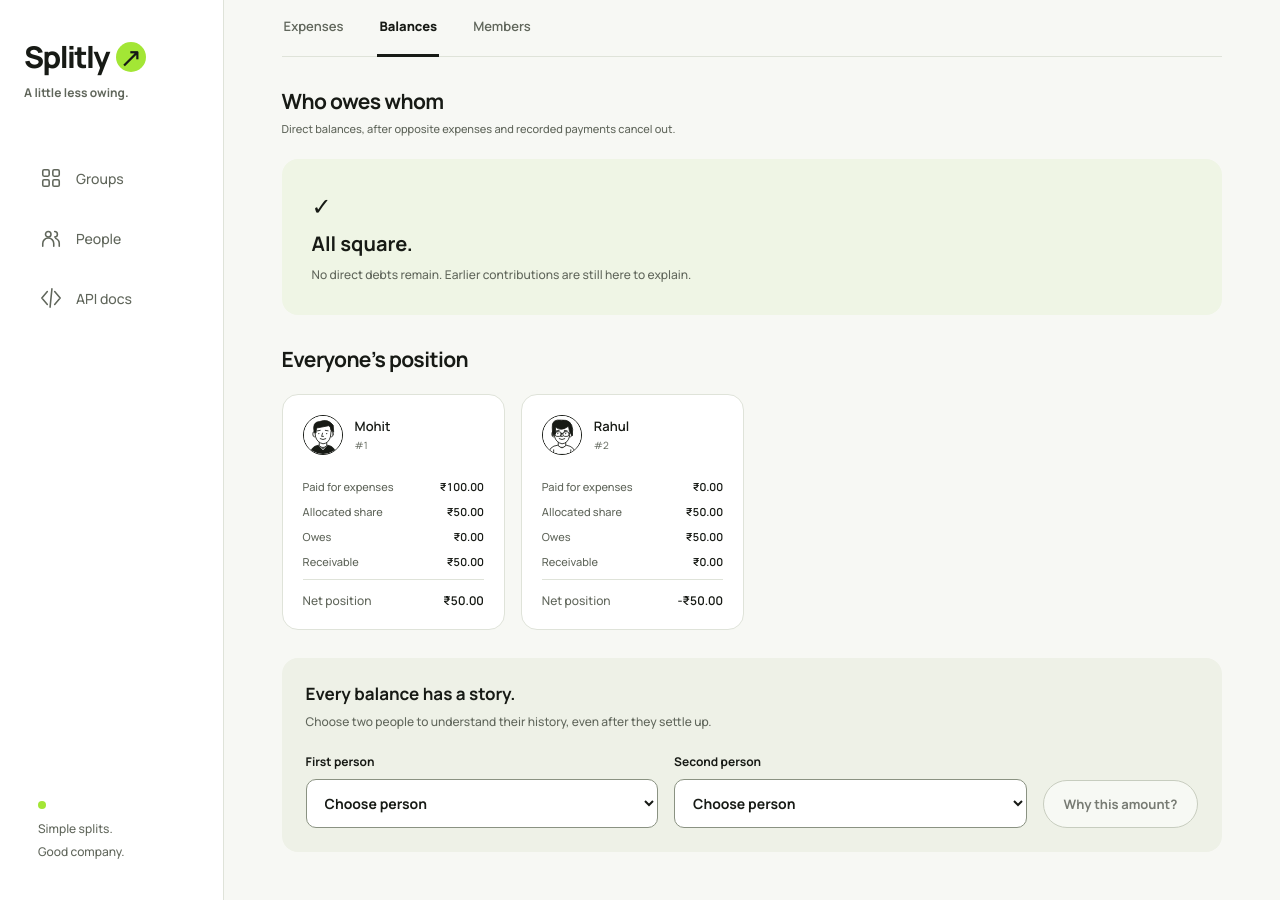
Scenario: allows pair lookup after debts are fully settled
(page scrolled)
expect the heading "All square." is shown: met, box x1=312 y1=230 x2=413 y2=257
Select "Mohit · #1" in the dropdown labelled "First person" at (482, 804), box x1=306 y1=779 x2=658 y2=828
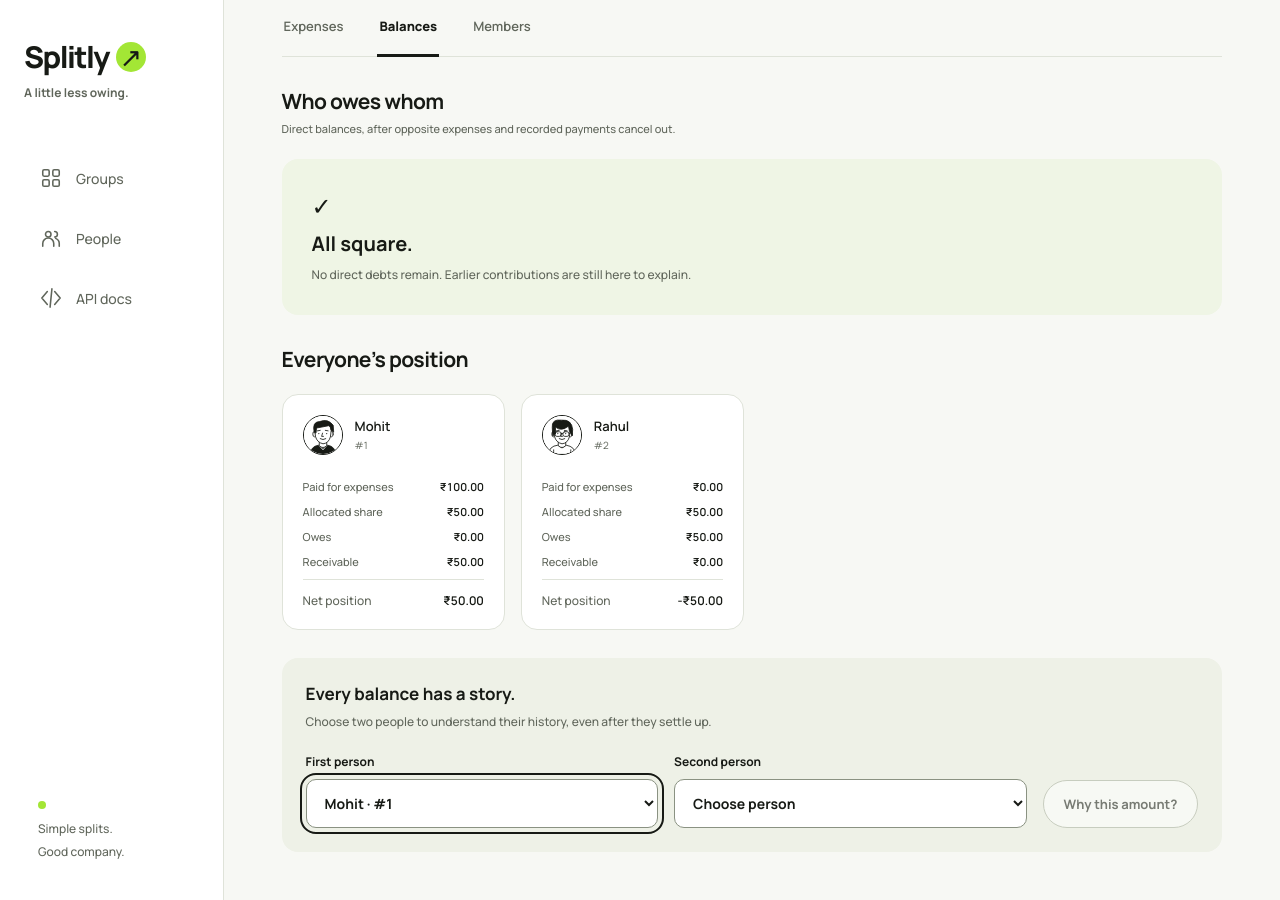
Select "Rahul · #2" in the dropdown labelled "Second person" at (850, 804), box x1=674 y1=779 x2=1026 y2=828
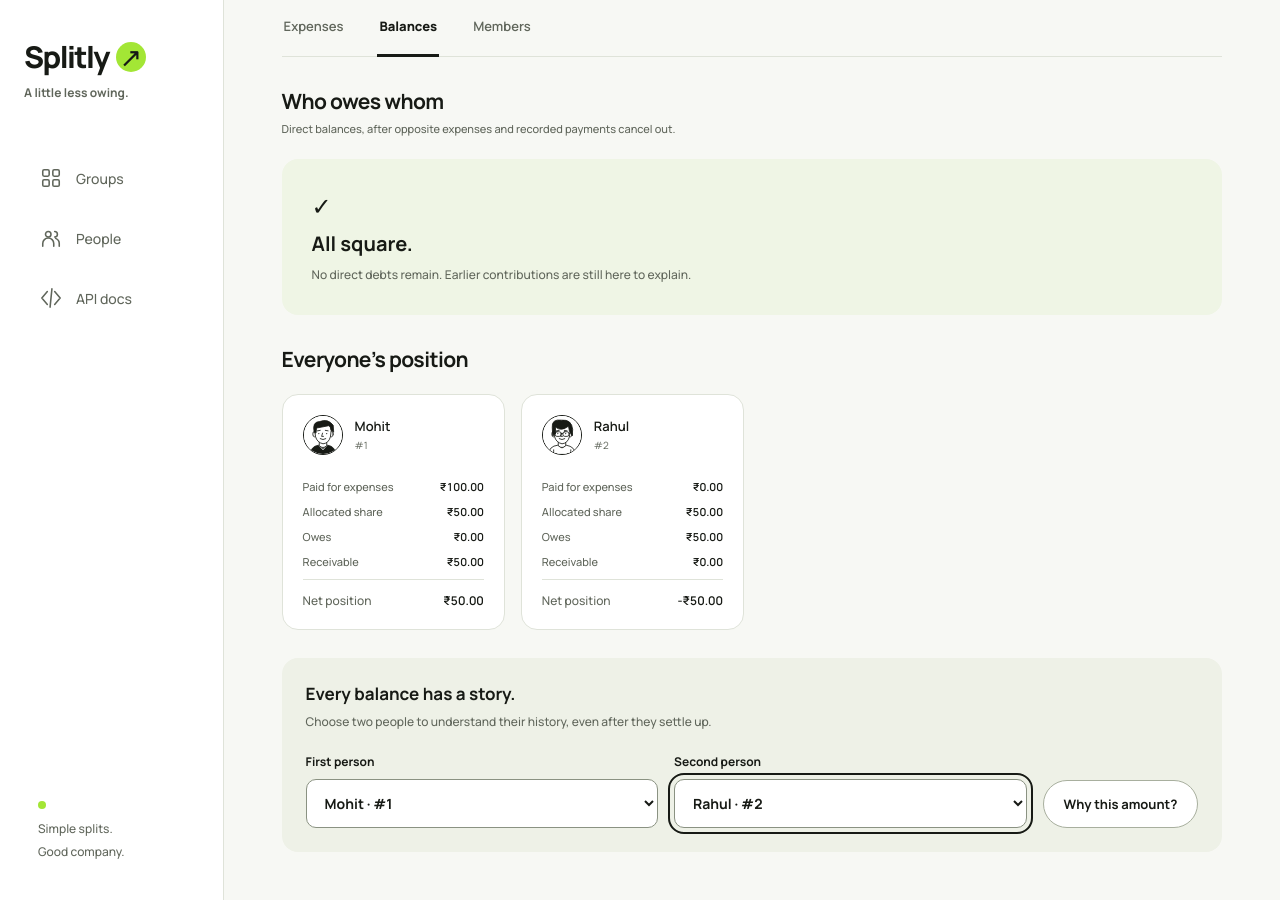
Click the button "Why this amount?" at (1120, 804), box x1=1042 y1=780 x2=1198 y2=828
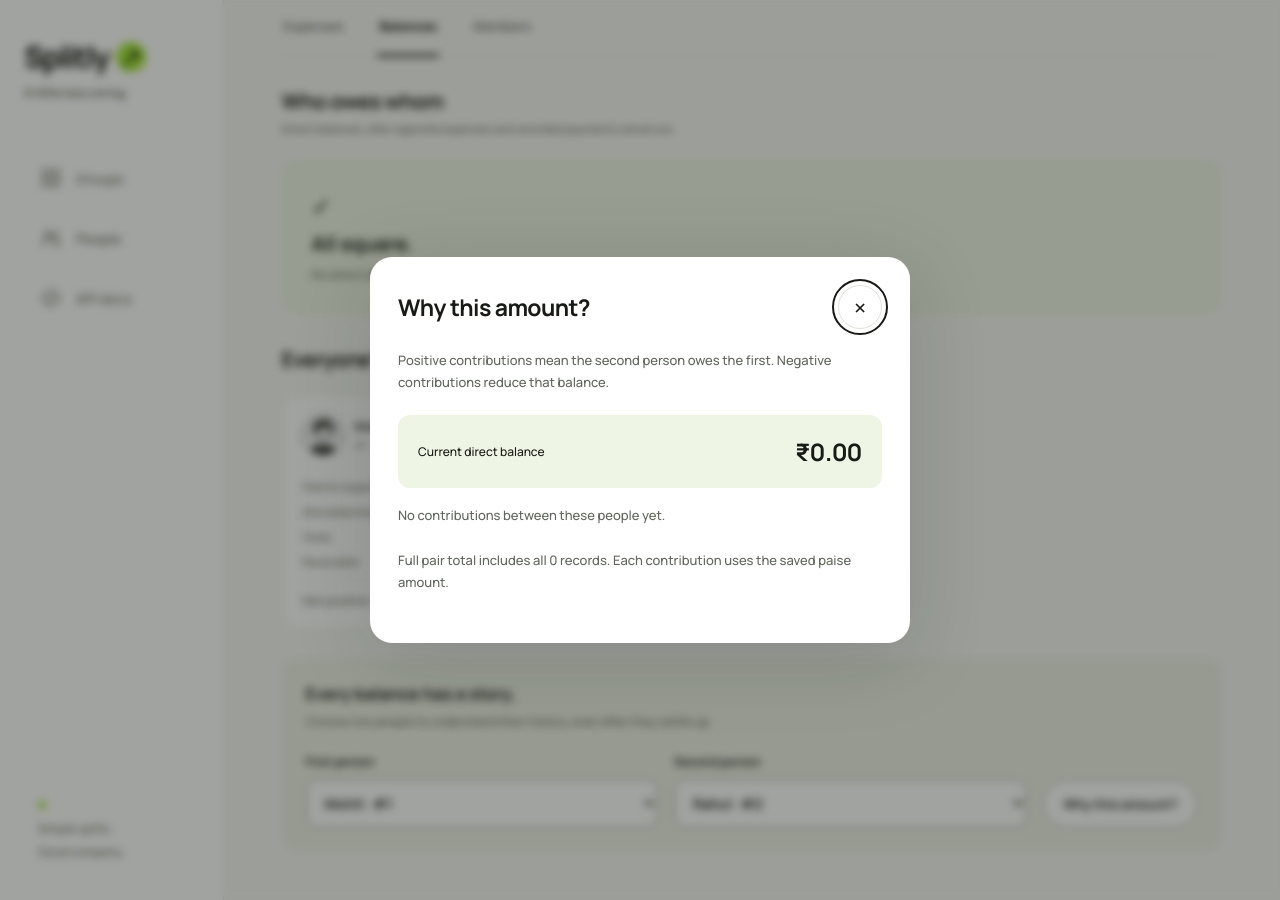
expect the text "No contributions between these people yet." is shown: met, box x1=398 y1=506 x2=665 y2=524
